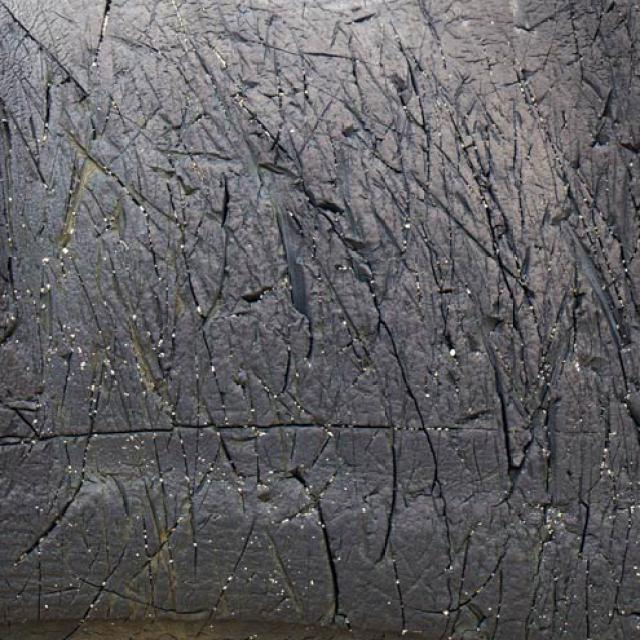Cracks: (0, 0, 639, 639)
